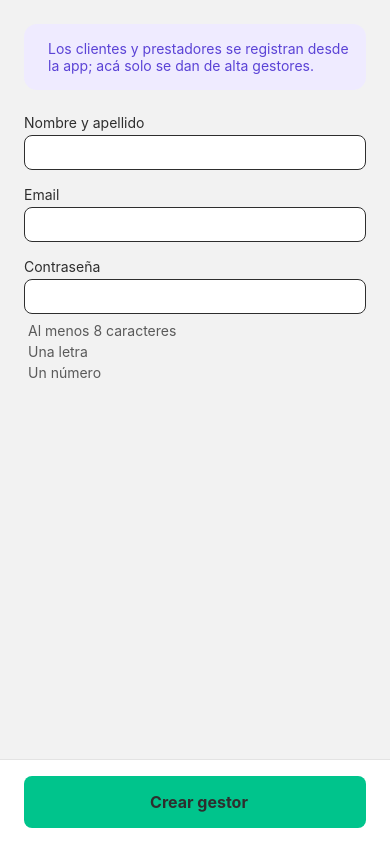
Test case: FormularioUsuario › muestra el error de email repetido en el campo
Type "G" into the field named "Nombre y apellido" at (199, 152), box [49,136,349,169]
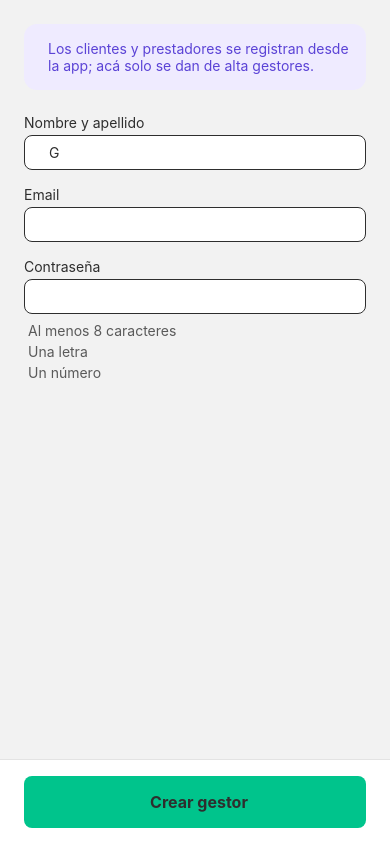
Type "g@mail.com" into the field named "Email" at (199, 224), box [49,208,349,241]
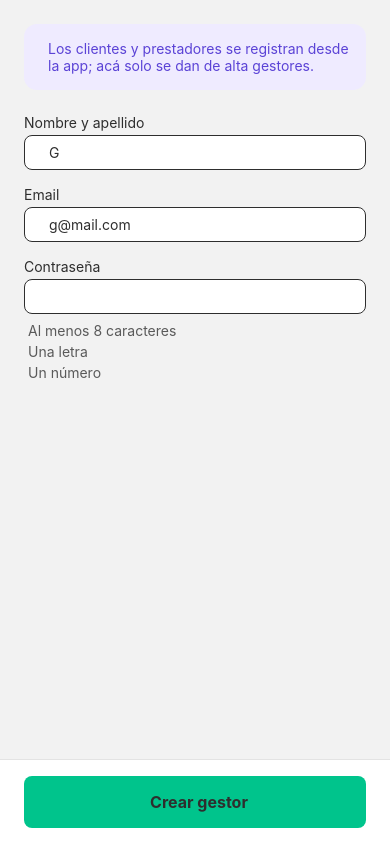
Type "clave1234" into the password field named "Contraseña" at (195, 296), box [49,280,341,313]
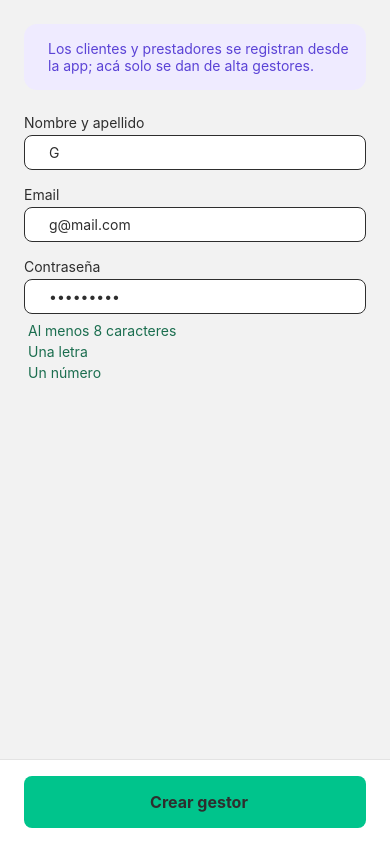
Click the button "Crear gestor" at (195, 802), box [24,776,366,828]
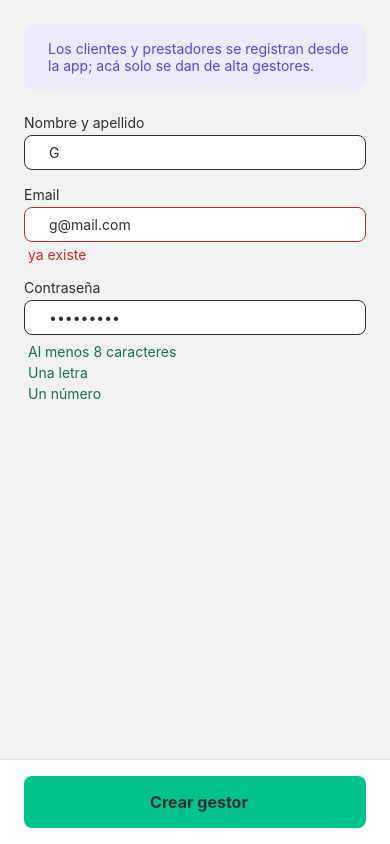
Check: the text "ya existe" is shown, box [28,246,86,263]
